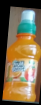orange: (3, 10, 40, 101)
